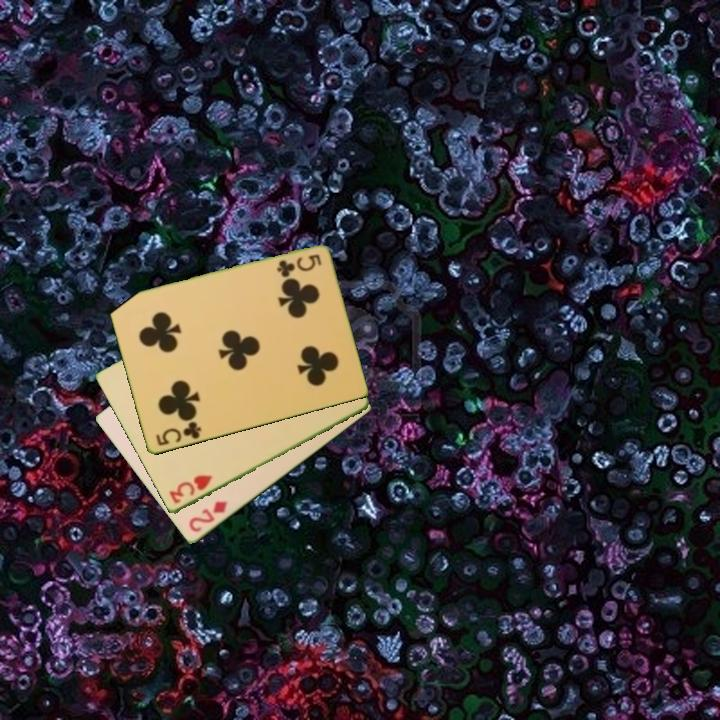2d: (185, 498, 230, 536)
3h: (165, 472, 215, 507)
5c: (152, 418, 204, 449), (273, 251, 324, 279)
